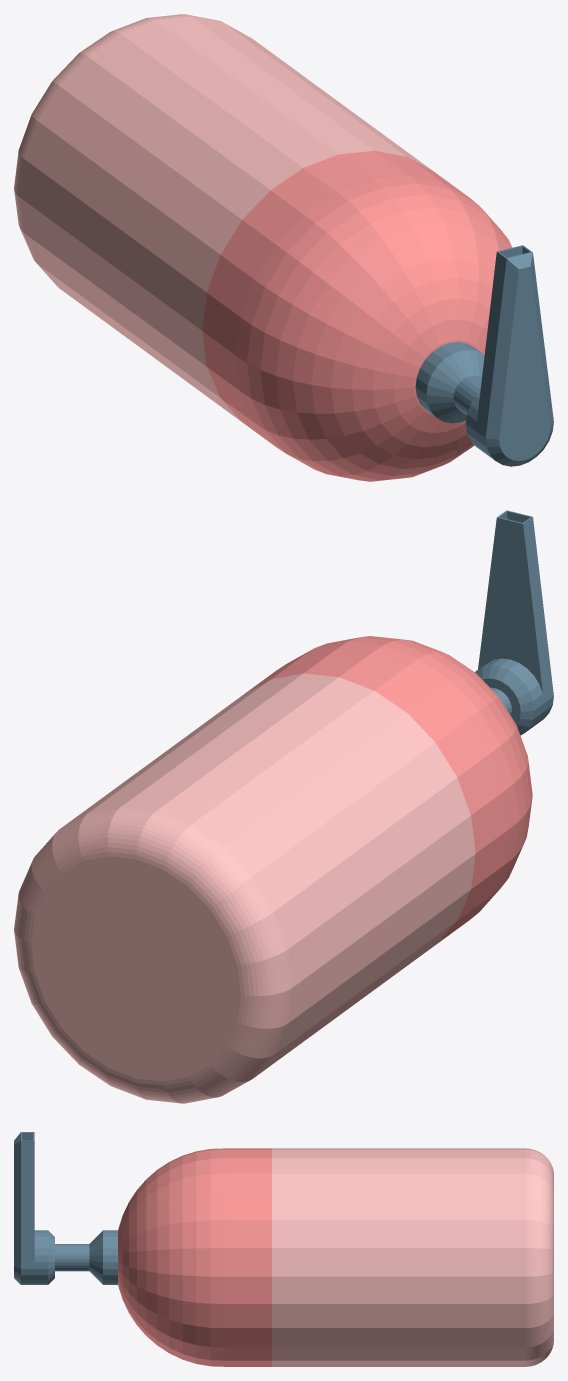
The picture shows the model from 3 angles, top to bottom: view 1: azimuth 30°, elevation 25°; view 2: azimuth 150°, elevation 25°; view 3: azimuth 270°, elevation 25°; orthographic projection. The views are drawn at different scales.
Parts seen in each view (by area): view 1: soap dispenser; view 2: soap dispenser; view 3: soap dispenser.
Boxes of the visible parts, <box> form: soap dispenser: <box>14,14,553,481</box>; soap dispenser: <box>14,510,553,1103</box>; soap dispenser: <box>14,1132,553,1366</box>.
Size of the model in its own units: 3.15 by 3.49 by 7.76.
